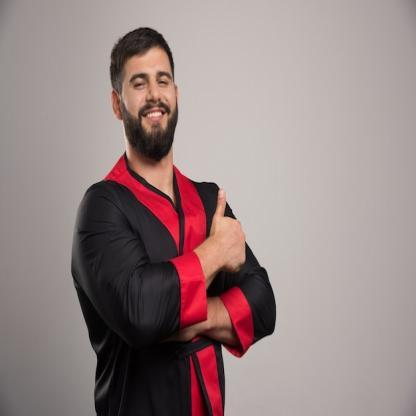thumb_up: (208, 184, 249, 276)
